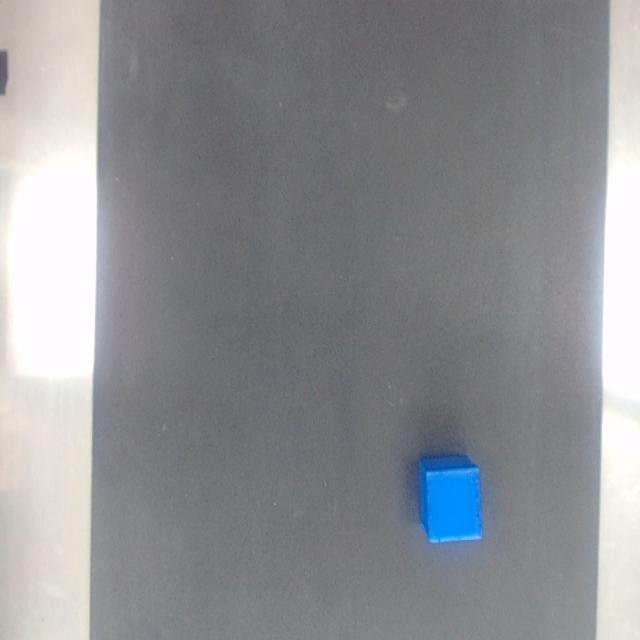Azul: (417, 455, 482, 543)
